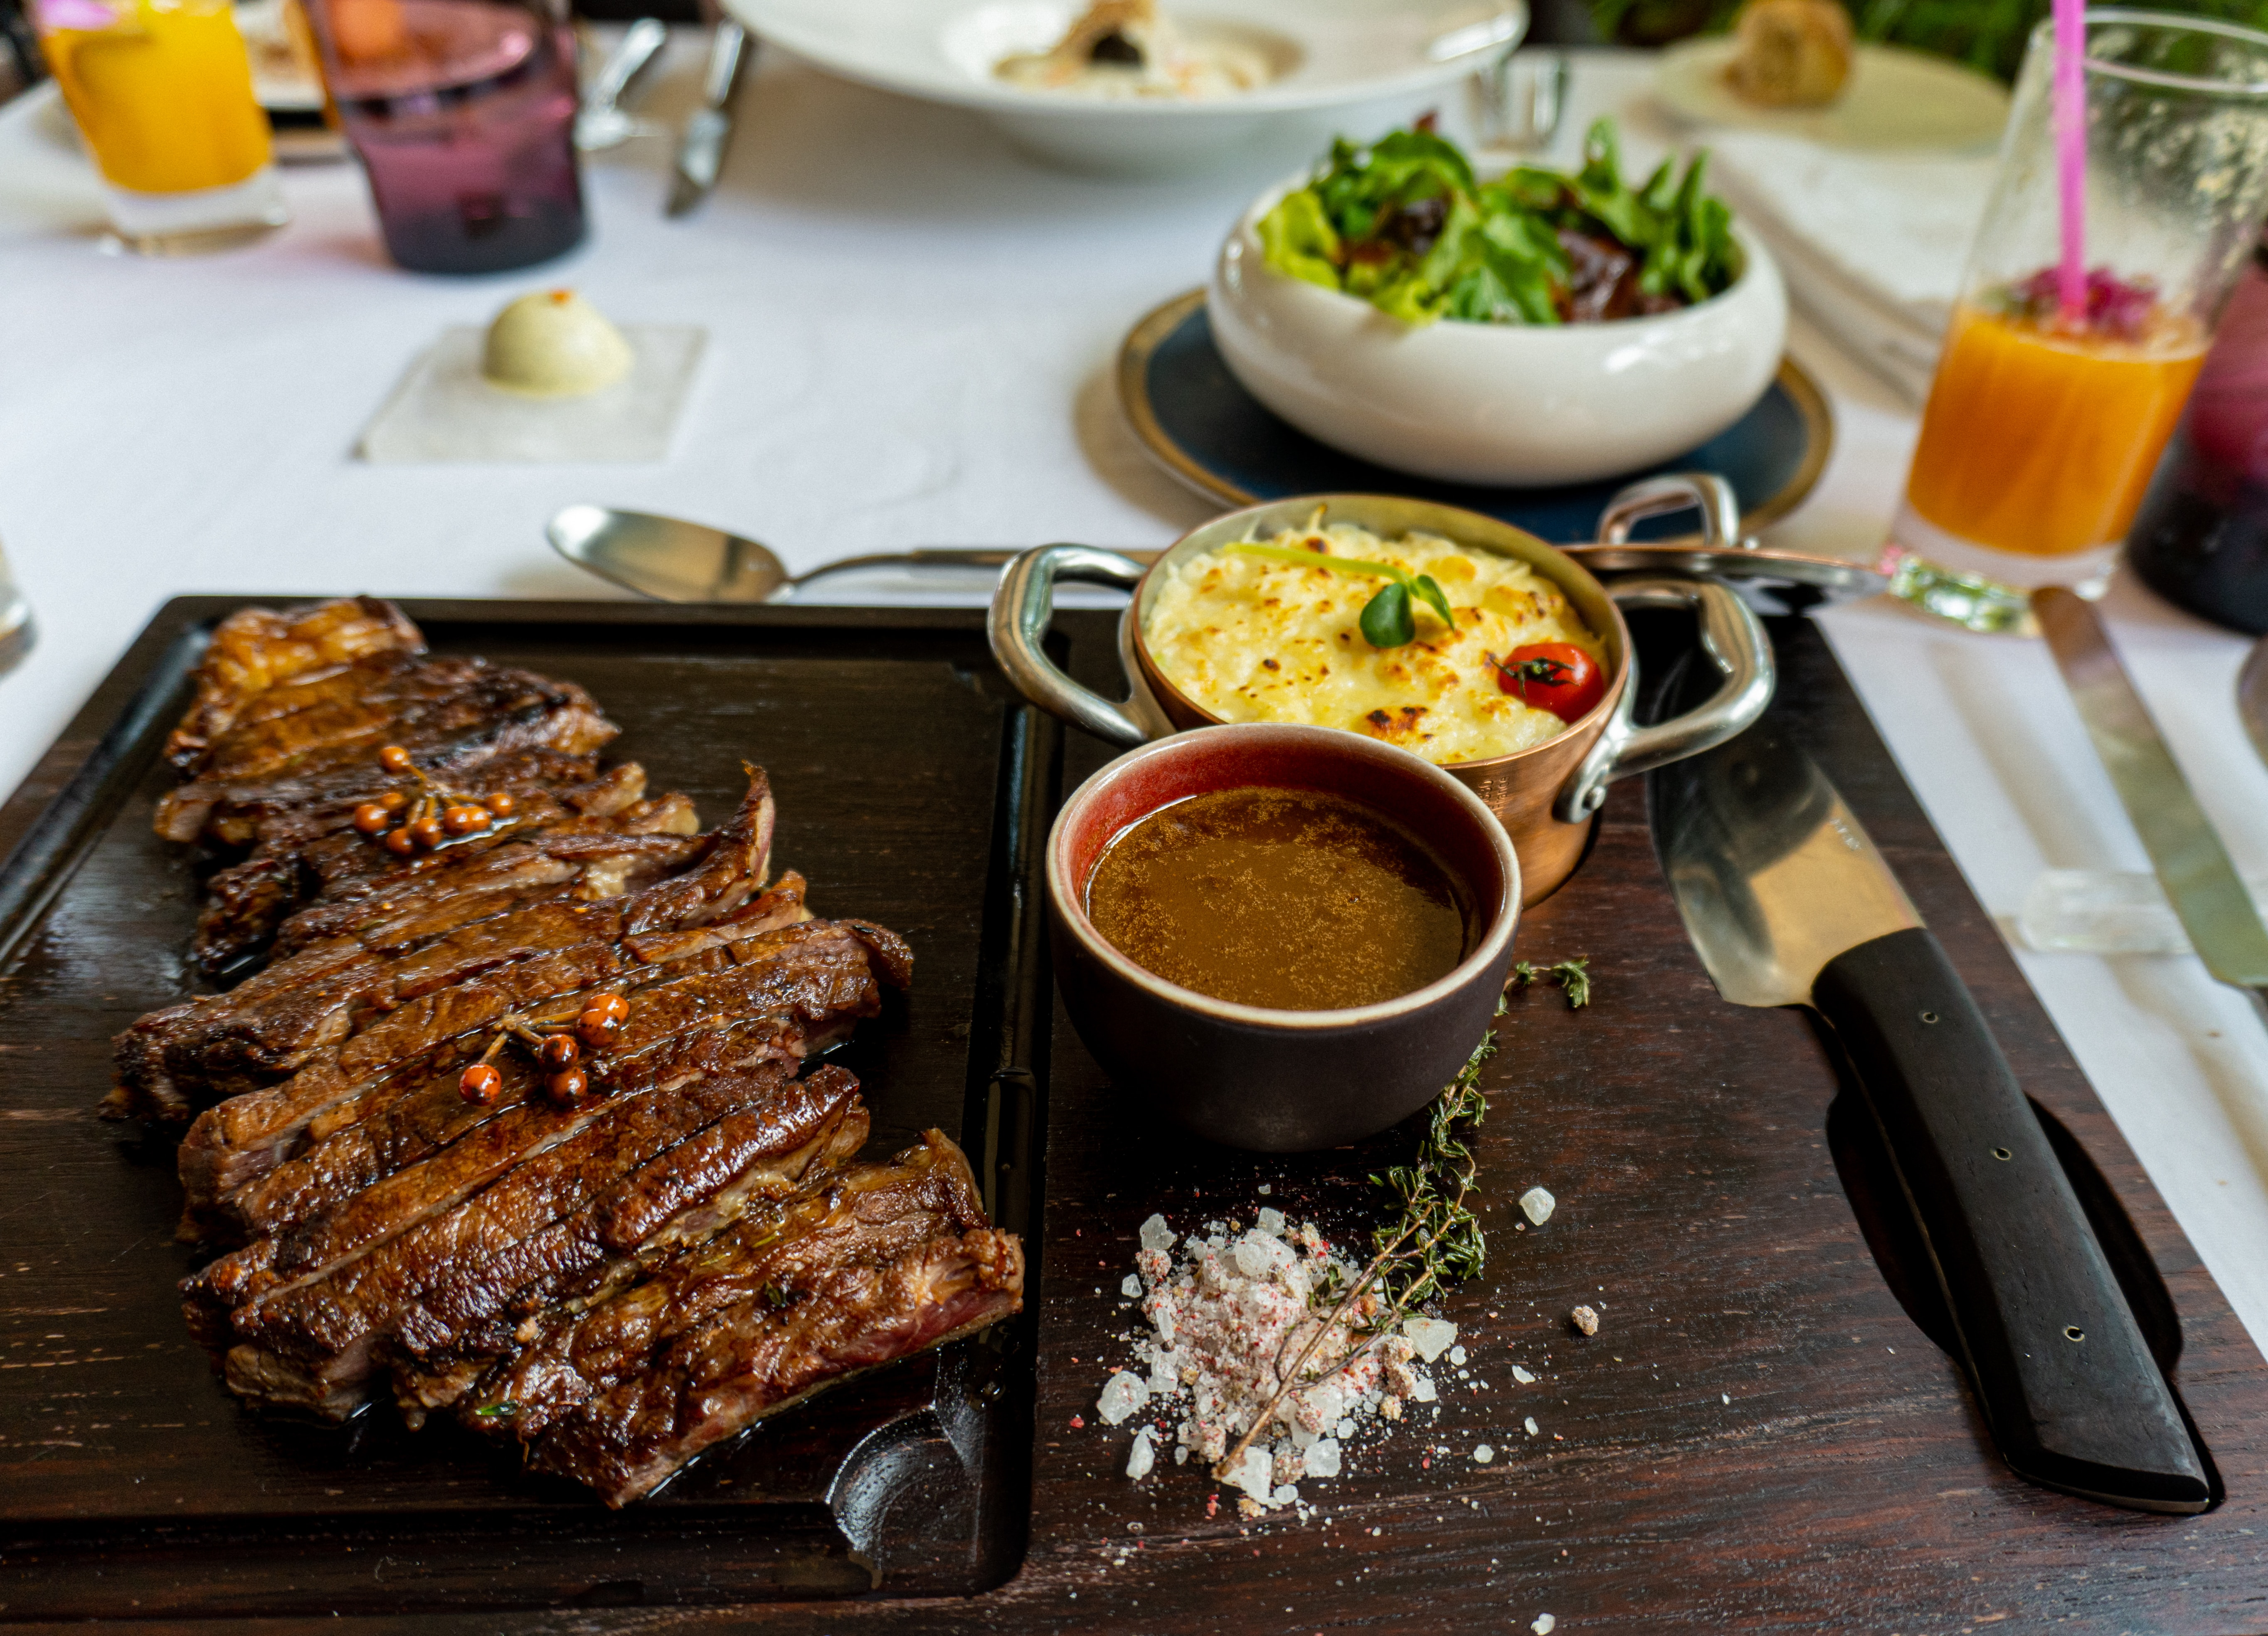knife: (1632, 623, 2233, 1530)
